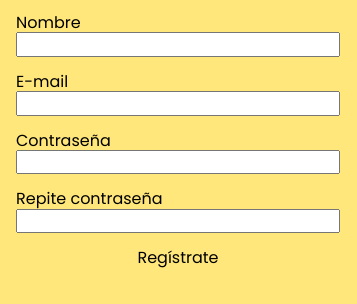
Register › button is enabled when form is completed
Type "username" into the field named "username". click: (178, 45)
box: [16,32,340,57]
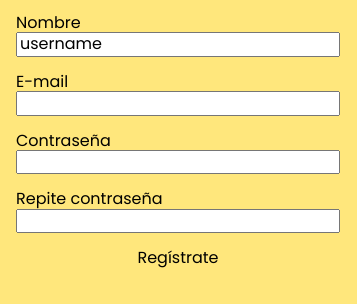
Type "email@mail.es" into the field named "email". click: (178, 103)
box: [16,91,340,116]
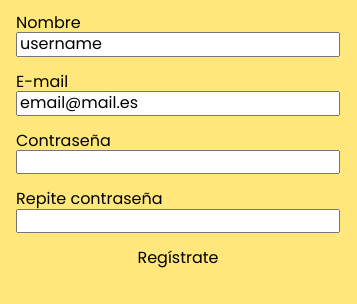
Type "1234" into the field named "password". click: (178, 162)
box: [16,150,340,174]
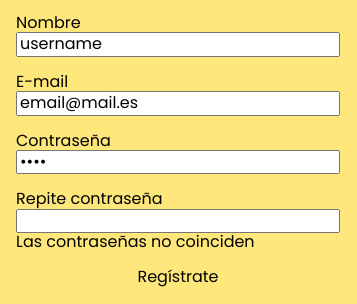
Type "1234" into the field named "checked". click: (178, 221)
box: [16,209,340,233]
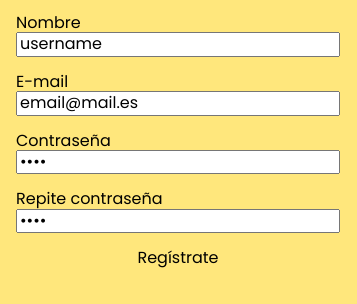
Now the button is enabled, box [137,249,218,268]
